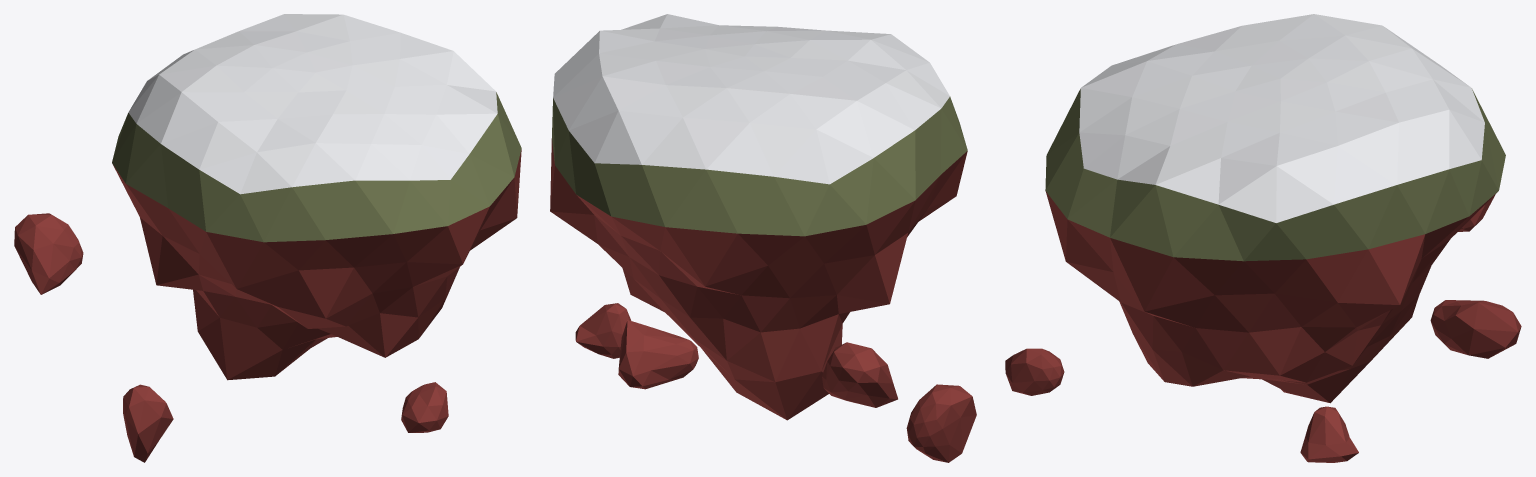
File: Island 1.fbx
3 views of the same model, side by side, from view 1: azimuth 30°, elevation 25°; view 2: azimuth 150°, elevation 25°; view 3: azimuth 270°, elevation 25° (orthographic). The views are drawn at different scales.
Visible parts, largest first — view 1: Island 1; view 2: Island 1; view 3: Island 1.
Part boxes in pixels (x1,y1,x2,y2): Island 1: (14, 14, 521, 462); Island 1: (550, 14, 976, 462); Island 1: (1005, 14, 1521, 462).
Bounding box in the file's own units: 2293 × 1993 × 2393.
